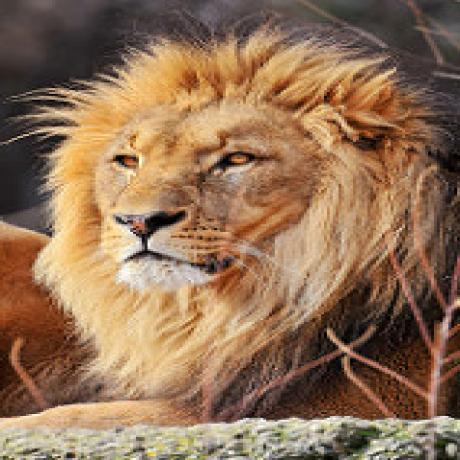Lion: (25, 30, 460, 420)
